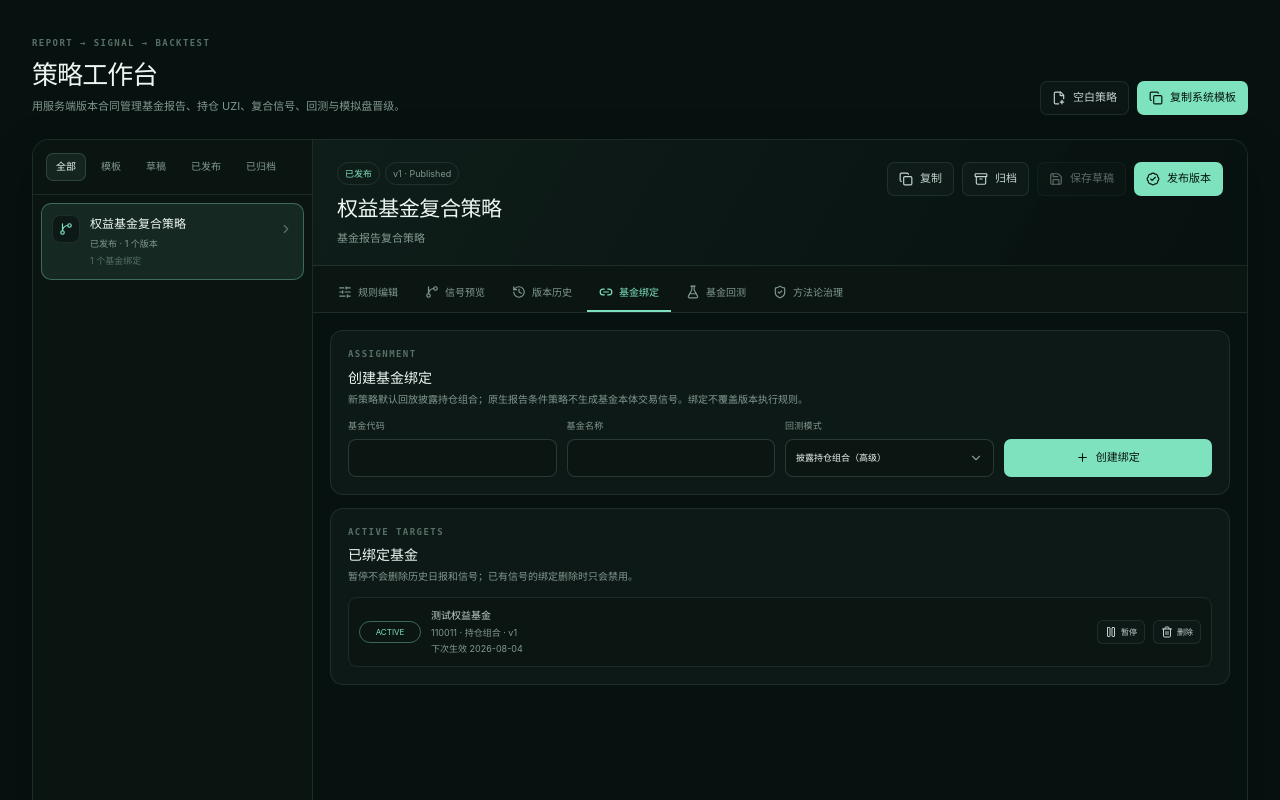
Test: Strategies › defaults new bindings to holdings but keeps legacy fund mode available
This screenshot has width=1280, height=800.
Expected: the heading "创建基金绑定" is shown, [348,369,432,386]
Click the dropdown named "回测模式" at (889, 458), box [785,439,994,477]
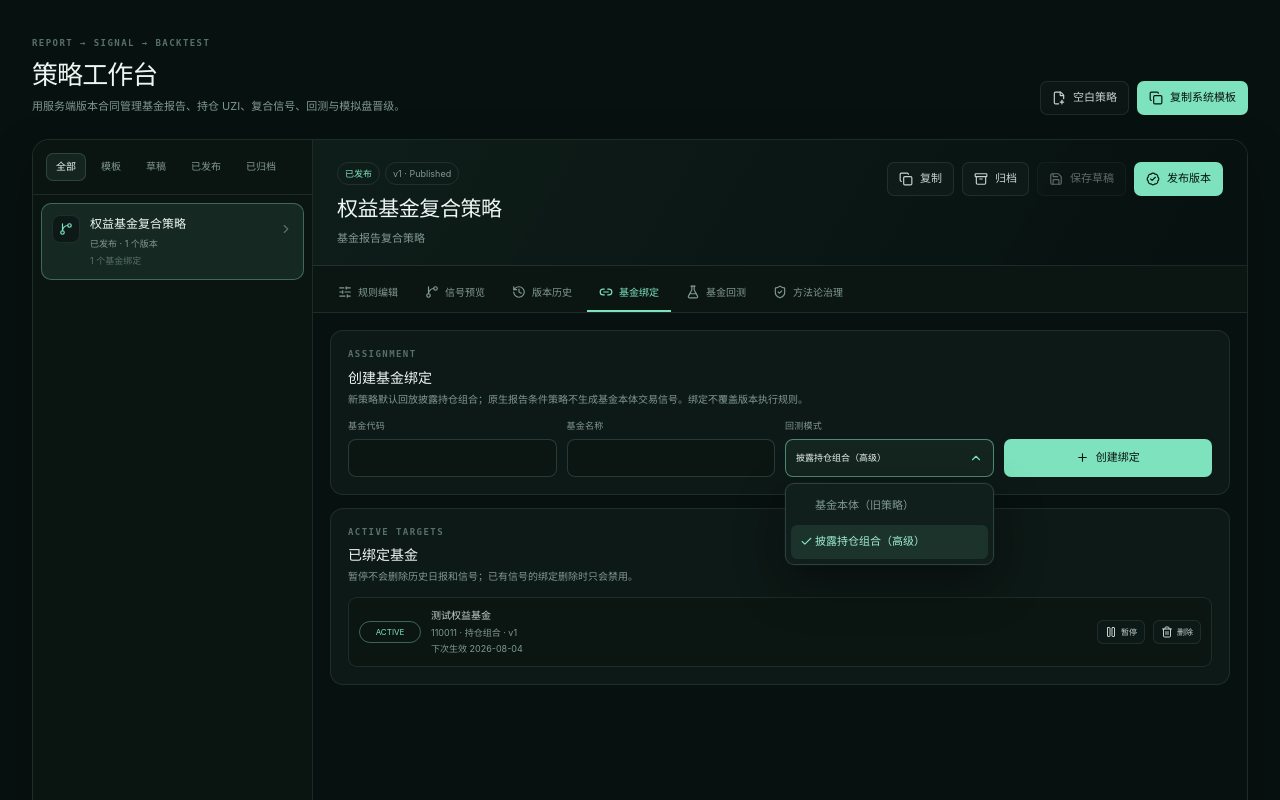
Expected: the option "基金本体（旧策略）" is shown, [791,489,988,523]
